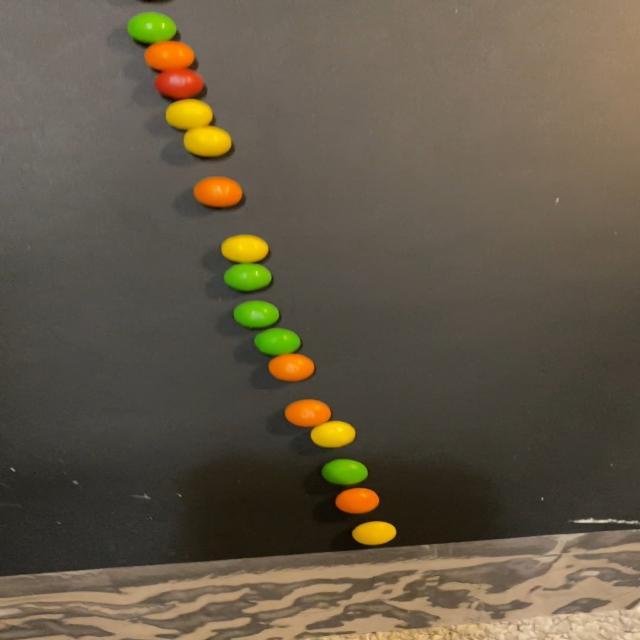smartie: (126, 11, 175, 43), (153, 68, 203, 99), (193, 176, 242, 207), (143, 40, 193, 70), (164, 98, 212, 129), (183, 125, 231, 156), (220, 234, 268, 263), (223, 263, 271, 292), (253, 328, 300, 356), (284, 400, 331, 428), (268, 354, 314, 382), (233, 301, 279, 328), (310, 421, 355, 448), (321, 460, 367, 486), (334, 489, 379, 515), (351, 522, 396, 546)
